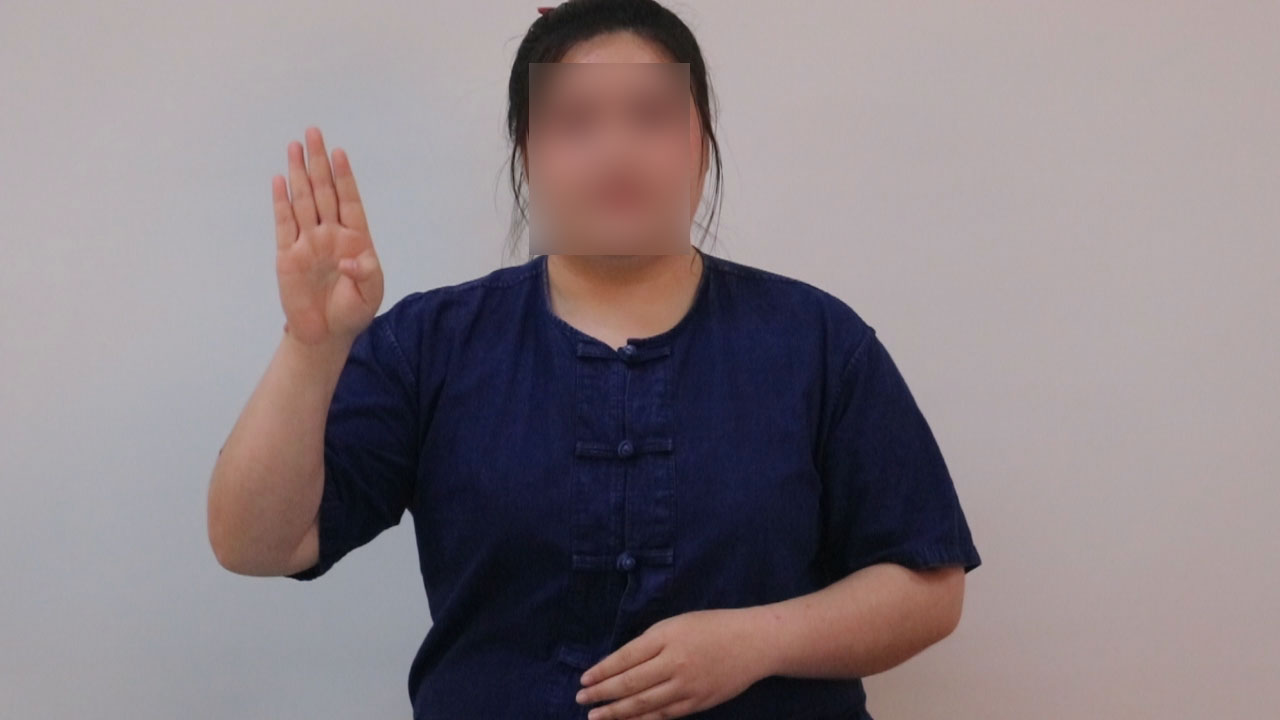bor: (246, 106, 403, 367)
